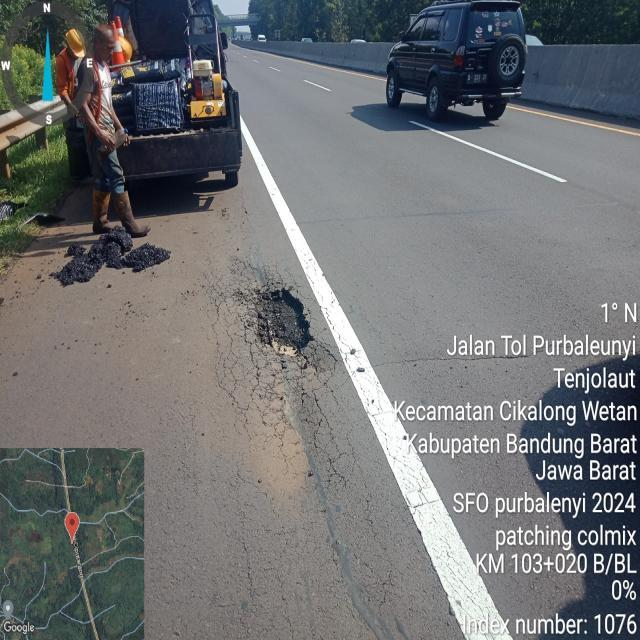Buraco: (250, 285, 318, 359)
